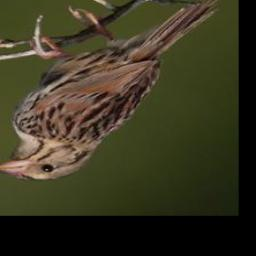Sparrow: (0, 0, 214, 184)
